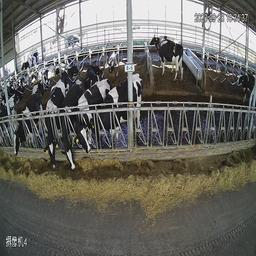cow: (86, 74, 151, 141), (11, 97, 44, 160), (60, 80, 80, 172), (45, 80, 63, 172), (150, 34, 184, 79), (235, 66, 256, 105), (84, 61, 105, 87), (104, 48, 122, 72), (19, 52, 37, 72)
